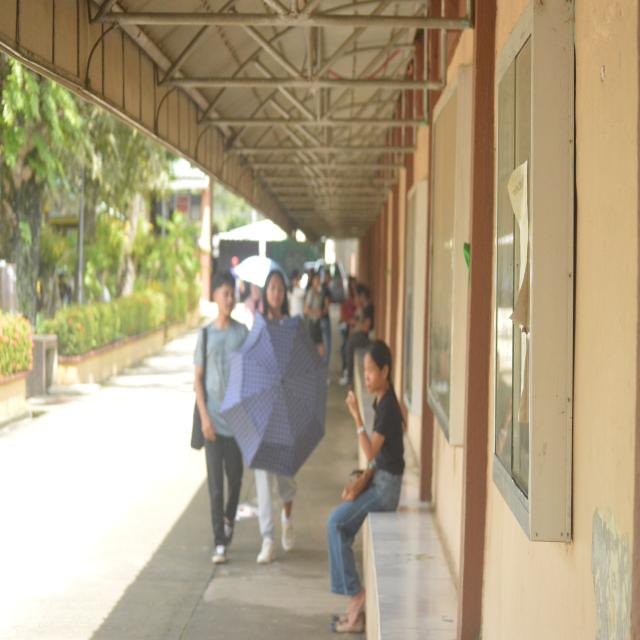person: (328, 341, 404, 632), (194, 271, 248, 563), (255, 470, 296, 563), (339, 284, 374, 389), (304, 272, 325, 358)
